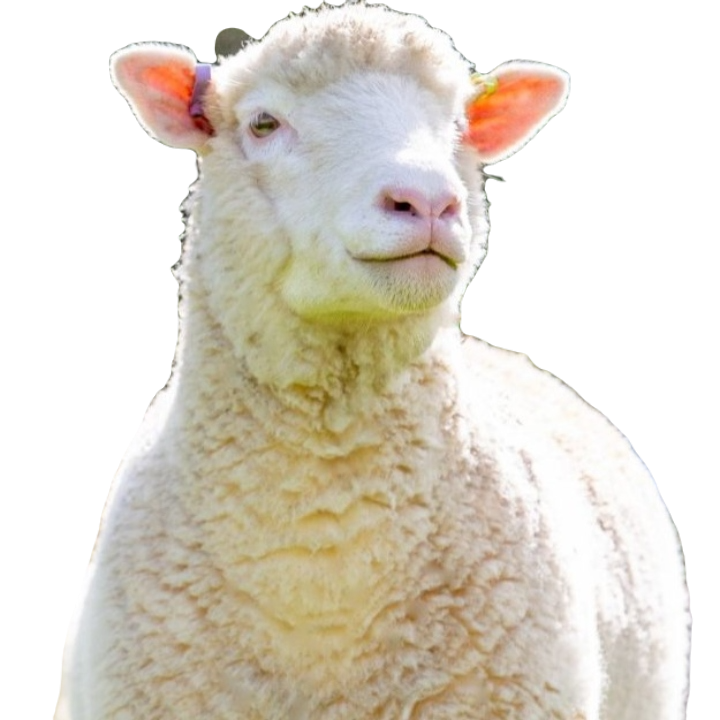Sheep: (58, 0, 701, 720)
